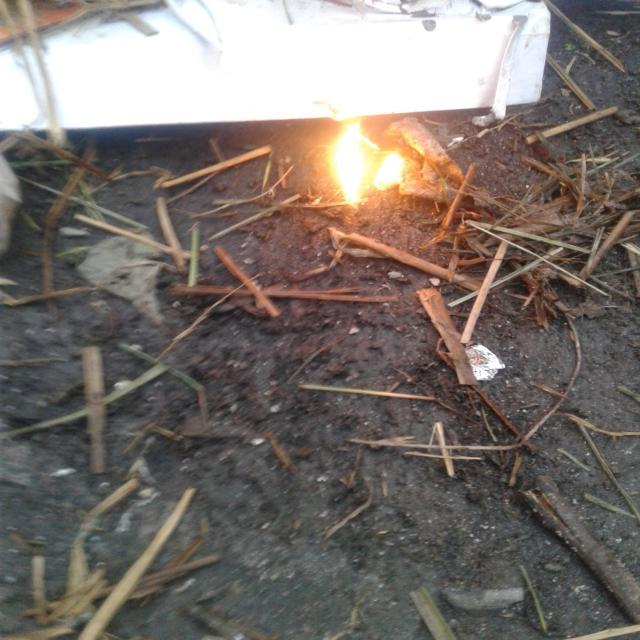Fire: (308, 105, 431, 206)
